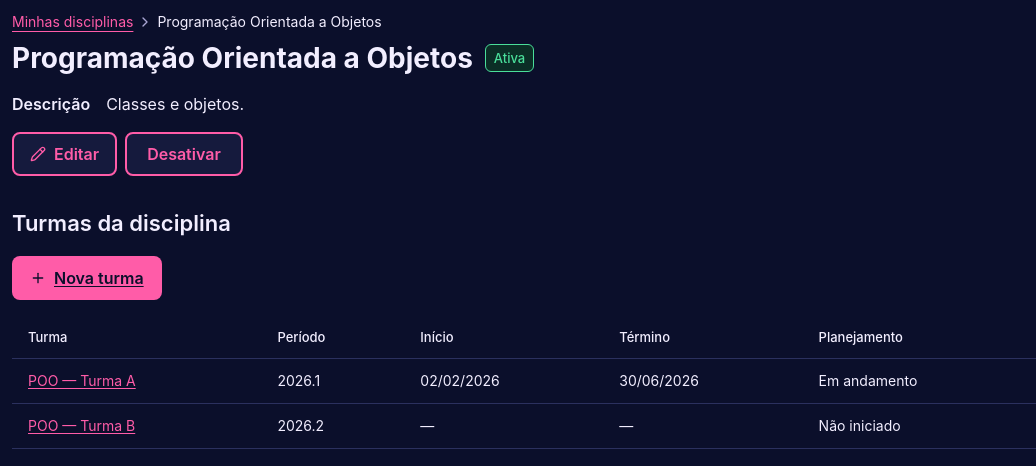
Test case: 004/US1-3 004/US1-6 SubjectDetail — dados, turmas da disciplina e situação › desativa e reativa; desativada não oferece Nova turma
Step 1. Click the button "Desativar" → (184, 154), box [125,132,243,176]
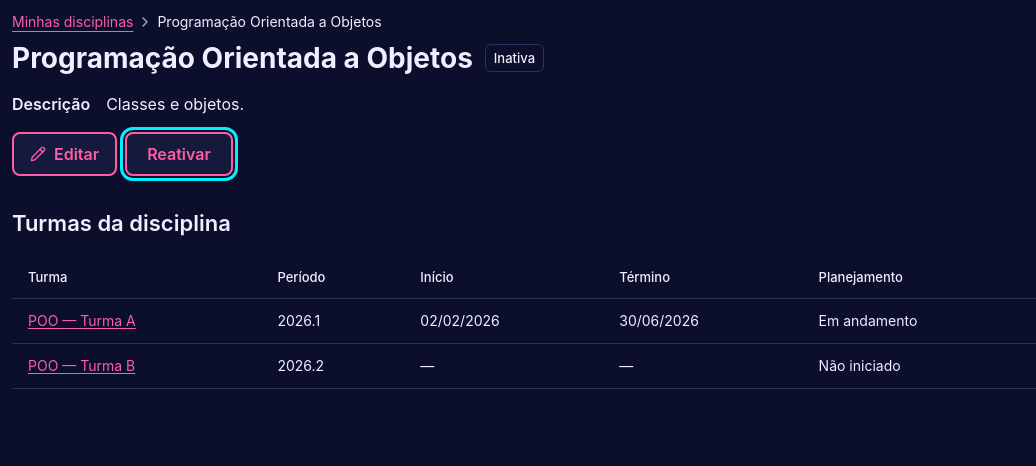
Check: the button "Reativar" is shown, box [125,132,233,176]
Check: the text "Inativa" is shown, box [485,44,544,72]
Check: the link "Nova turma" is gone
